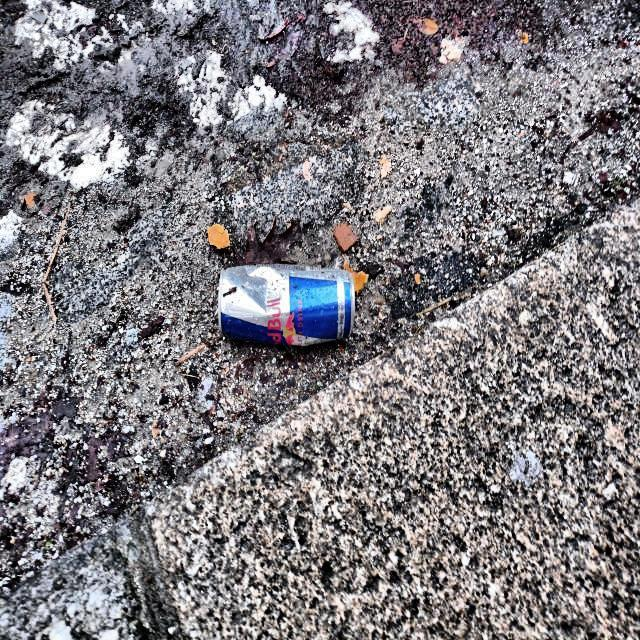metal: (218, 264, 354, 348)
